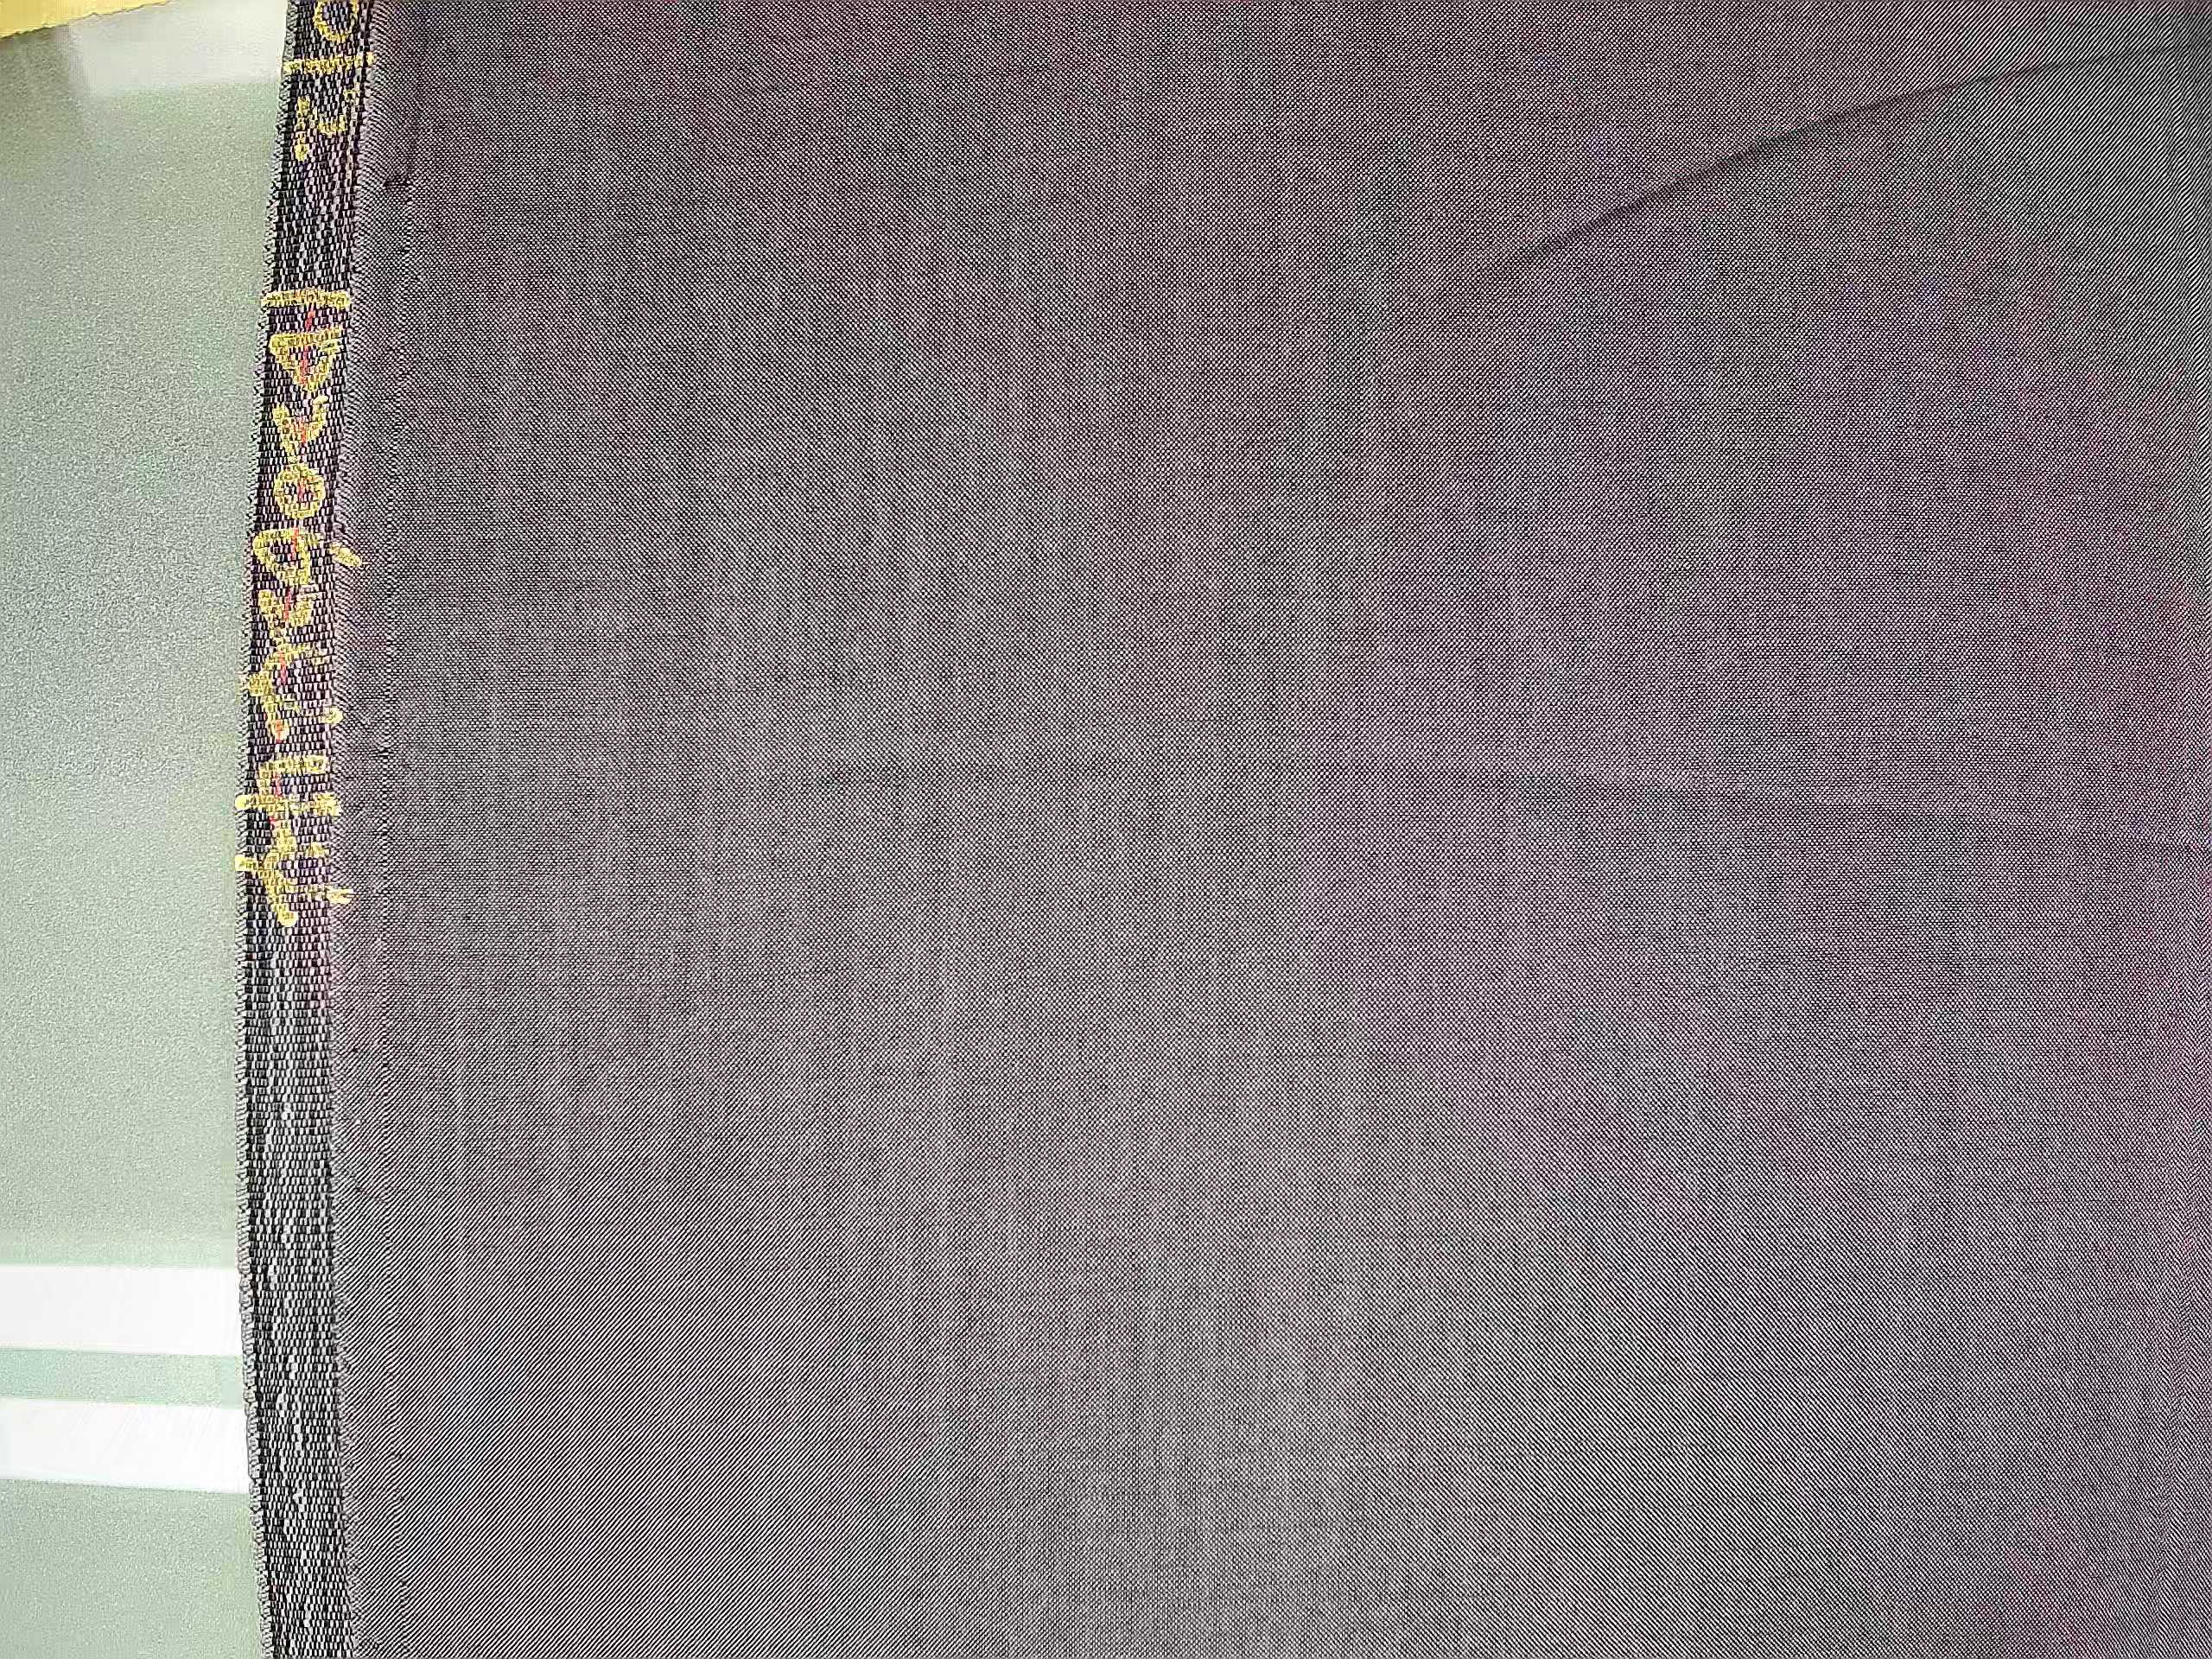lacking-warp: (373, 14, 435, 1654)
